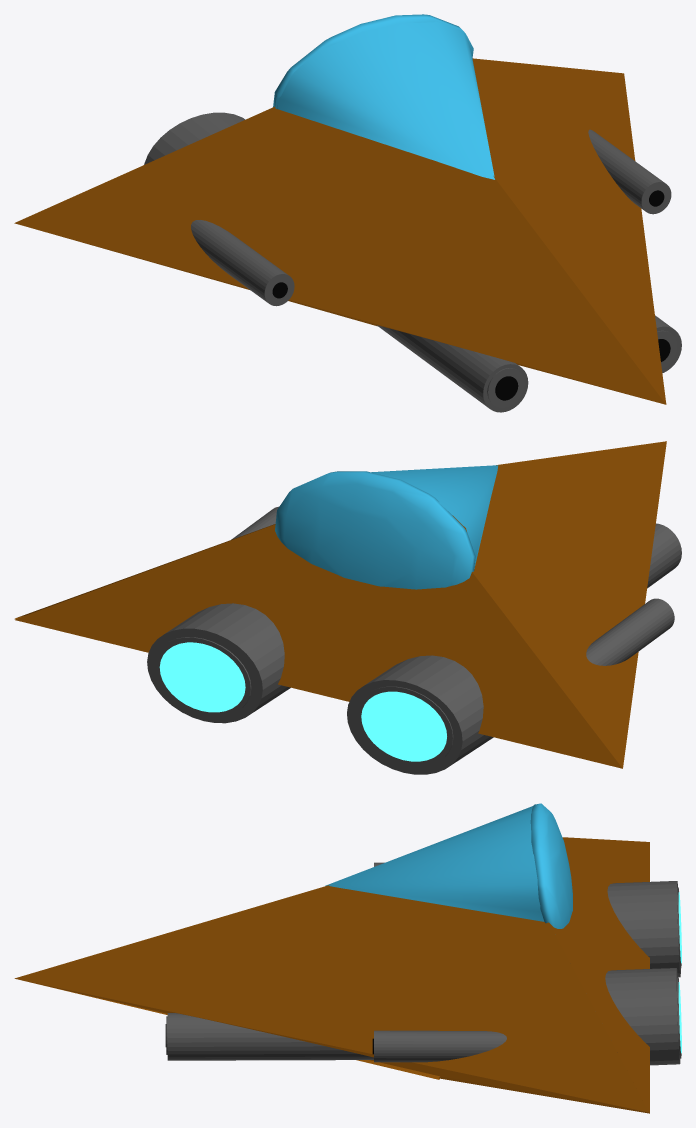
The model's file is nave naranja.fbx.
3 views of the same model, one above another, from view 1: azimuth 30°, elevation 25°; view 2: azimuth 150°, elevation 25°; view 3: azimuth 270°, elevation 25° (orthographic). The views are drawn at different scales.
Parts seen in each view (by area): view 1: Plane.001, Cone, Cylinder.005, Cylinder.002, Cylinder.003, Cylinder, Mball, Cylinder.007; view 2: Plane.001, Mball, Cylinder.001, Cylinder, Cylinder.012, Cylinder.013, Cone, Cylinder.002, Cylinder.014, Cylinder.015, Cylinder.005; view 3: Plane.001, Cone, Cylinder.004, Cylinder.001, Cylinder, Mball, Cylinder.003.
Boxes of the visible parts, box(x1,y1,x2,y2) form: Plane.001: box(14, 58, 666, 404); Cone: box(275, 21, 494, 179); Cylinder.005: box(376, 325, 528, 412); Cylinder.002: box(191, 220, 294, 306); Cylinder.003: box(588, 129, 671, 214); Cylinder: box(144, 112, 245, 164); Mball: box(273, 14, 473, 109); Cylinder.007: box(487, 368, 524, 407); Plane.001: box(14, 441, 666, 768); Mball: box(275, 471, 475, 589); Cylinder.001: box(147, 603, 290, 723); Cylinder: box(347, 655, 493, 774); Cylinder.012: box(159, 642, 245, 712); Cylinder.013: box(361, 691, 446, 761); Cone: box(371, 465, 498, 571); Cylinder.002: box(586, 598, 674, 665); Cylinder.014: box(153, 637, 251, 716); Cylinder.015: box(356, 686, 453, 765); Cylinder.005: box(647, 523, 681, 588); Plane.001: box(14, 837, 649, 1113); Cone: box(325, 806, 544, 921); Cylinder.004: box(167, 1013, 373, 1060); Cylinder.001: box(605, 968, 680, 1065); Cylinder: box(607, 881, 680, 977); Mball: box(530, 803, 572, 928); Cylinder.003: box(374, 1030, 506, 1062).
Size of the model in its own units: 6.01 by 2.68 by 6.24.
